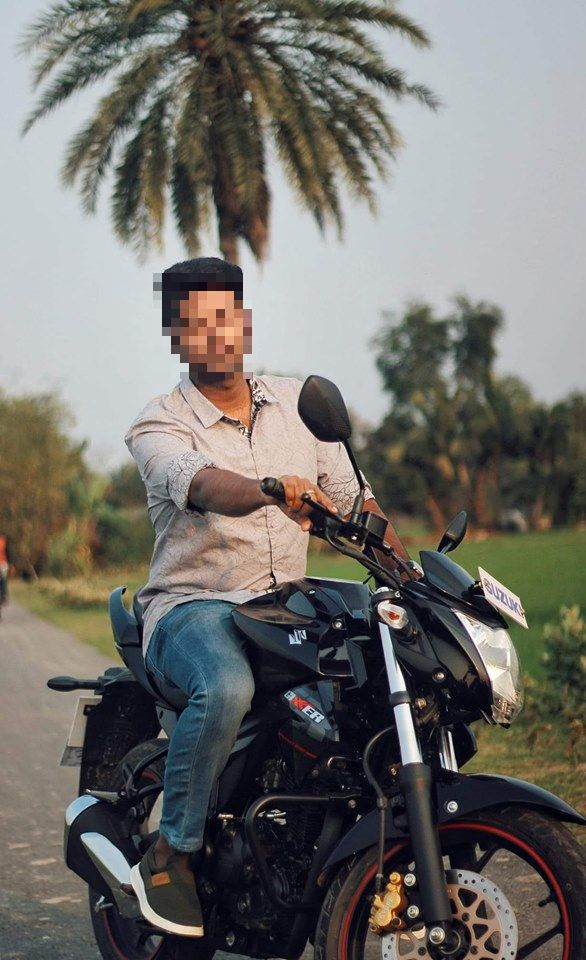bike: (45, 373, 586, 960)
